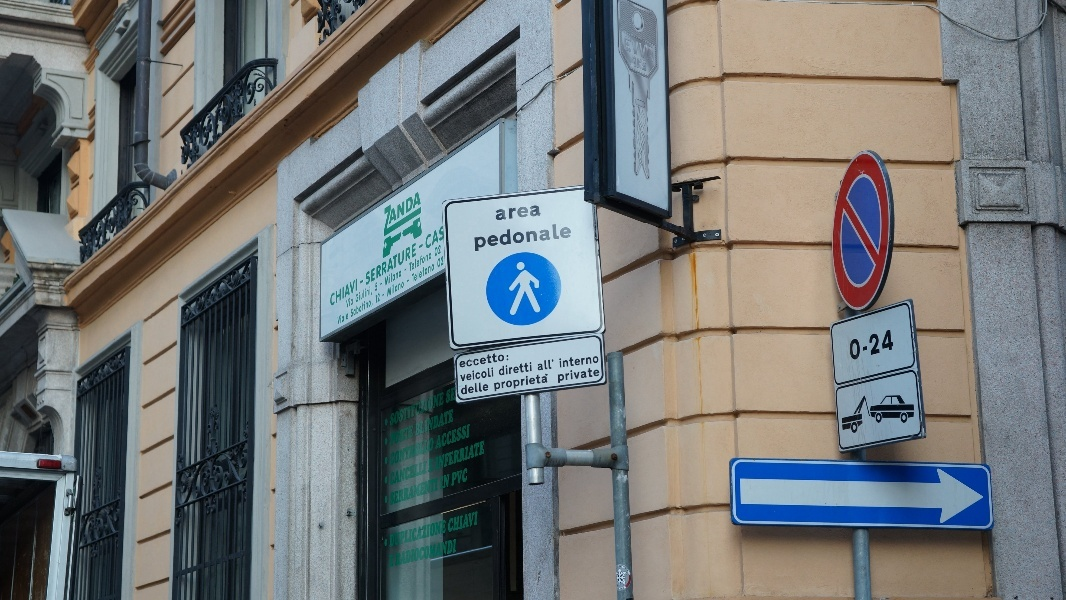text: (337, 224, 352, 308), (353, 224, 368, 308), (369, 224, 384, 308), (385, 224, 400, 308), (401, 224, 416, 308), (417, 224, 432, 308), (433, 224, 445, 308), (385, 191, 400, 238), (401, 191, 416, 238), (385, 260, 400, 305), (401, 260, 416, 305), (417, 260, 432, 305), (328, 224, 336, 308), (401, 391, 416, 428), (417, 391, 432, 428), (849, 329, 864, 362), (865, 329, 880, 362), (449, 440, 464, 472), (465, 440, 480, 472), (401, 436, 416, 467), (417, 436, 432, 467), (881, 329, 895, 362), (417, 408, 432, 438), (433, 408, 448, 438), (401, 457, 416, 487), (417, 457, 432, 487), (401, 476, 416, 506), (417, 476, 432, 506), (401, 519, 416, 549), (417, 519, 432, 549), (401, 538, 416, 568), (417, 538, 432, 568), (433, 538, 448, 568), (481, 223, 496, 253), (497, 223, 512, 253), (513, 223, 528, 253), (529, 223, 544, 253), (545, 223, 560, 253), (433, 391, 445, 428), (625, 35, 640, 64), (449, 423, 464, 451), (433, 519, 447, 549), (435, 440, 448, 472), (375, 260, 384, 305), (641, 35, 654, 64), (390, 391, 400, 428), (449, 511, 464, 534), (353, 297, 368, 319), (561, 223, 572, 253), (417, 250, 432, 272), (417, 191, 424, 238), (465, 511, 479, 534), (497, 372, 512, 393), (513, 372, 528, 393), (529, 372, 544, 393), (401, 424, 414, 448), (390, 436, 400, 467), (390, 457, 400, 487), (390, 476, 400, 506), (390, 519, 400, 549), (465, 350, 480, 369), (481, 350, 496, 369), (438, 423, 448, 451), (561, 367, 576, 385), (577, 367, 592, 385), (385, 268, 400, 286), (389, 424, 400, 448), (497, 205, 512, 222), (513, 205, 528, 222), (497, 350, 510, 369), (337, 310, 352, 326), (465, 367, 480, 383), (513, 361, 528, 377), (452, 468, 464, 488), (449, 538, 457, 568), (356, 285, 368, 304), (465, 381, 480, 396), (481, 367, 495, 383), (529, 205, 542, 222), (499, 361, 512, 377), (434, 244, 448, 258), (561, 355, 576, 368), (577, 355, 592, 368), (433, 476, 439, 506), (474, 223, 480, 253), (465, 423, 471, 451), (389, 554, 400, 569), (593, 367, 602, 385), (449, 386, 457, 406), (481, 440, 486, 472), (409, 250, 416, 272), (449, 408, 454, 438), (440, 473, 448, 491), (437, 256, 448, 269), (632, 55, 640, 72), (481, 381, 490, 396), (369, 297, 375, 319), (545, 372, 551, 393), (396, 538, 400, 568), (641, 55, 648, 72), (545, 359, 554, 372), (369, 285, 374, 304), (459, 350, 464, 369), (345, 296, 352, 309), (537, 359, 544, 372), (433, 260, 435, 305), (375, 282, 384, 291), (459, 367, 464, 383), (465, 468, 469, 488), (593, 355, 599, 368), (529, 361, 533, 377), (433, 436, 435, 467), (617, 565, 624, 573), (461, 381, 464, 396), (494, 372, 496, 393), (446, 386, 448, 406), (625, 565, 630, 573), (558, 367, 560, 385), (449, 473, 451, 491), (415, 408, 416, 438), (433, 457, 434, 487), (353, 296, 355, 309), (351, 297, 352, 319), (405, 269, 416, 271), (618, 588, 624, 591), (401, 268, 402, 286), (495, 205, 496, 222), (559, 355, 560, 368), (381, 283, 384, 286)
